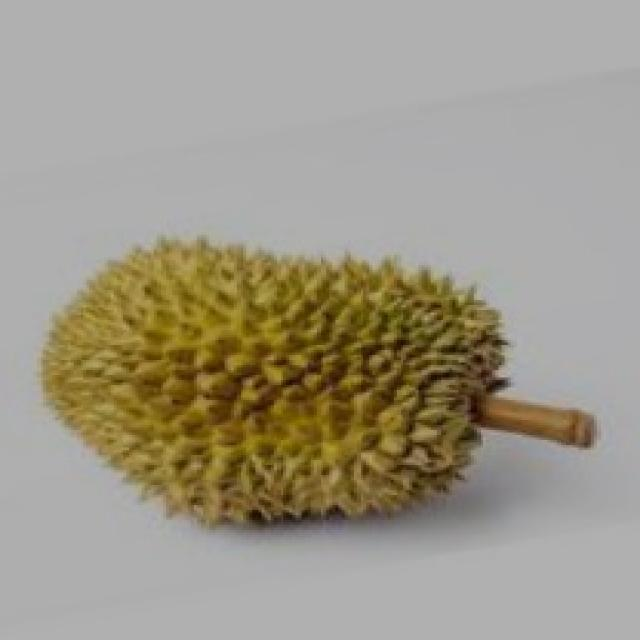fruit: (6, 198, 360, 592), (200, 223, 542, 585)
